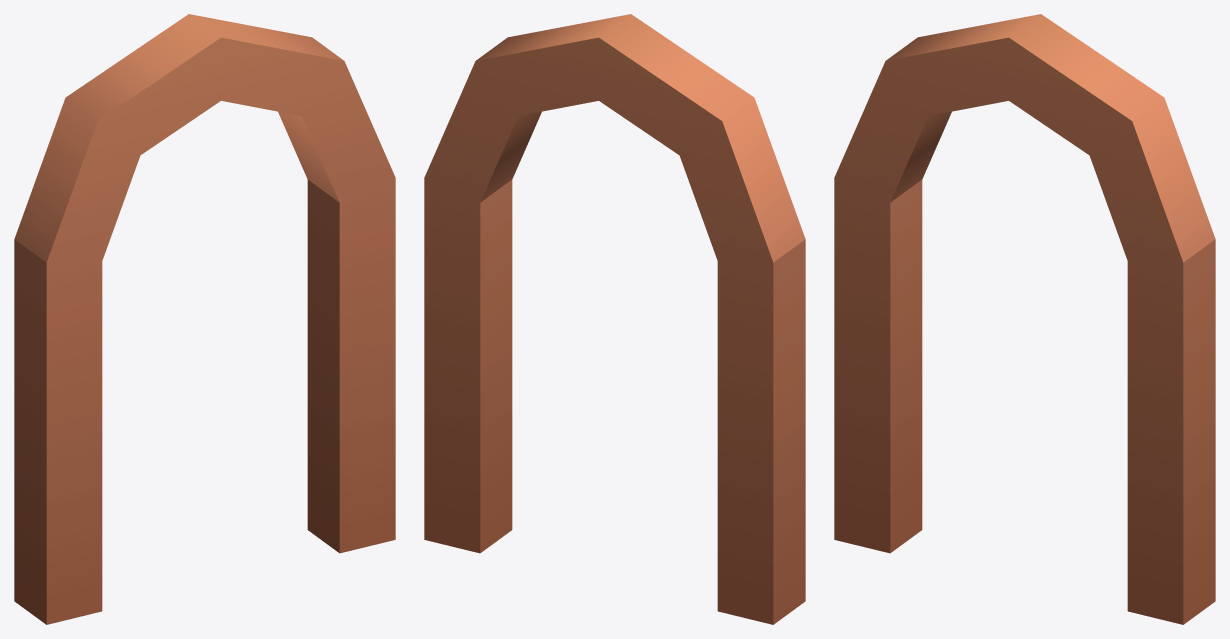
Rendered from kenney-modular-buildings-window-brown-round-top.glb.
The picture shows the model from 3 angles, left to right: view 1: azimuth 30°, elevation 25°; view 2: azimuth 150°, elevation 25°; view 3: azimuth 330°, elevation 25°; orthographic projection.
Visible parts, largest first — view 1: window-brown-round-top; view 2: window-brown-round-top; view 3: window-brown-round-top.
Boxes of the visible parts, <box> form: window-brown-round-top: <box>14,14,395,624</box>; window-brown-round-top: <box>424,14,805,624</box>; window-brown-round-top: <box>834,14,1215,624</box>.
Size of the model in its own units: 0.3125 by 0.4662 by 0.05.
Materials: 1 (1 with a texture image).
